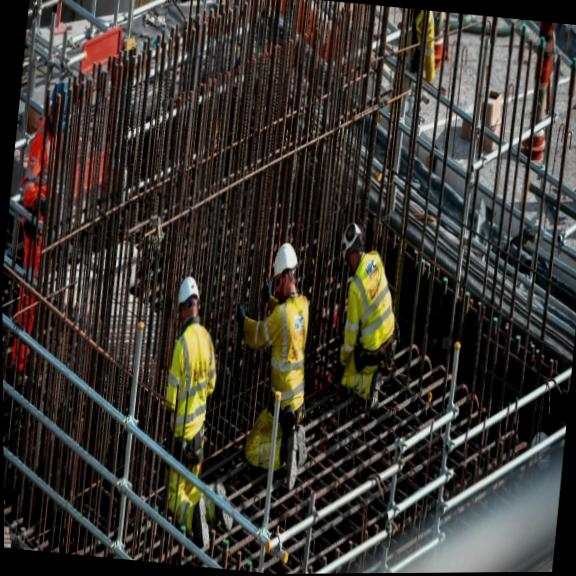safety_vest: (157, 318, 224, 455), (252, 291, 313, 415), (341, 257, 397, 355)
